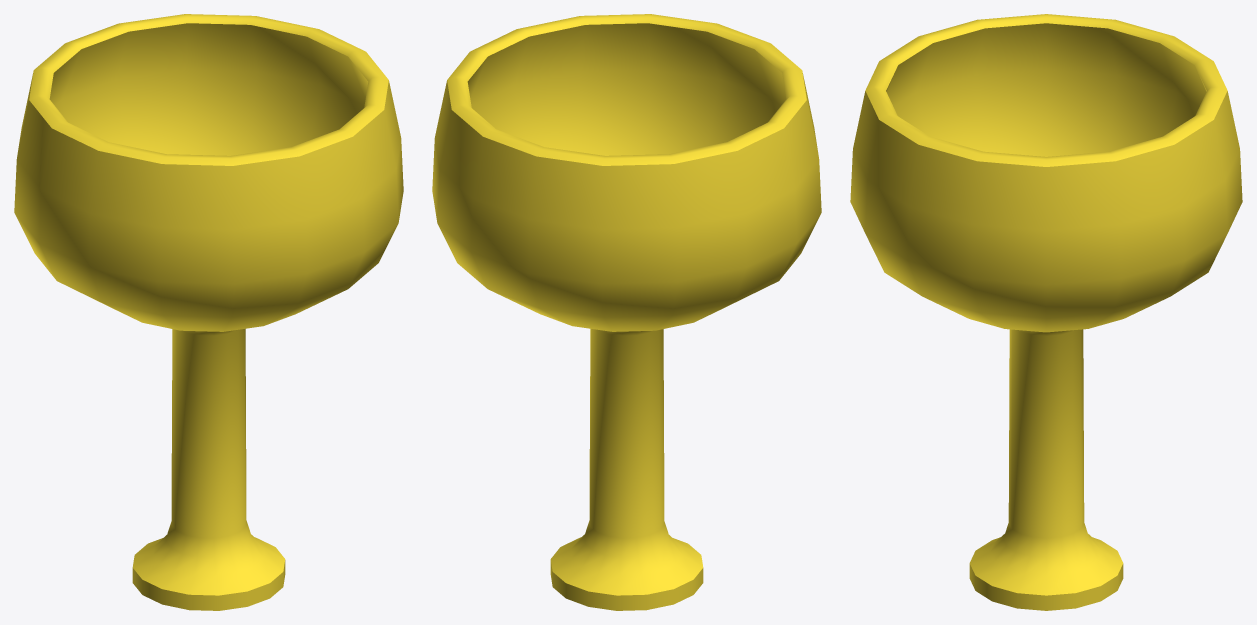
File: Chalice.gltf
3 views of the same model, side by side, from view 1: azimuth 30°, elevation 25°; view 2: azimuth 150°, elevation 25°; view 3: azimuth 270°, elevation 25° (orthographic).
Visible parts, largest first — view 1: Chalice.001; view 2: Chalice.001; view 3: Chalice.001.
Part boxes in pixels (x1,y1,x2,y2): Chalice.001: [14, 14, 403, 610]; Chalice.001: [432, 14, 821, 610]; Chalice.001: [850, 14, 1242, 610].
Bounding box in the file's own units: 0.374 × 0.517 × 0.374.
